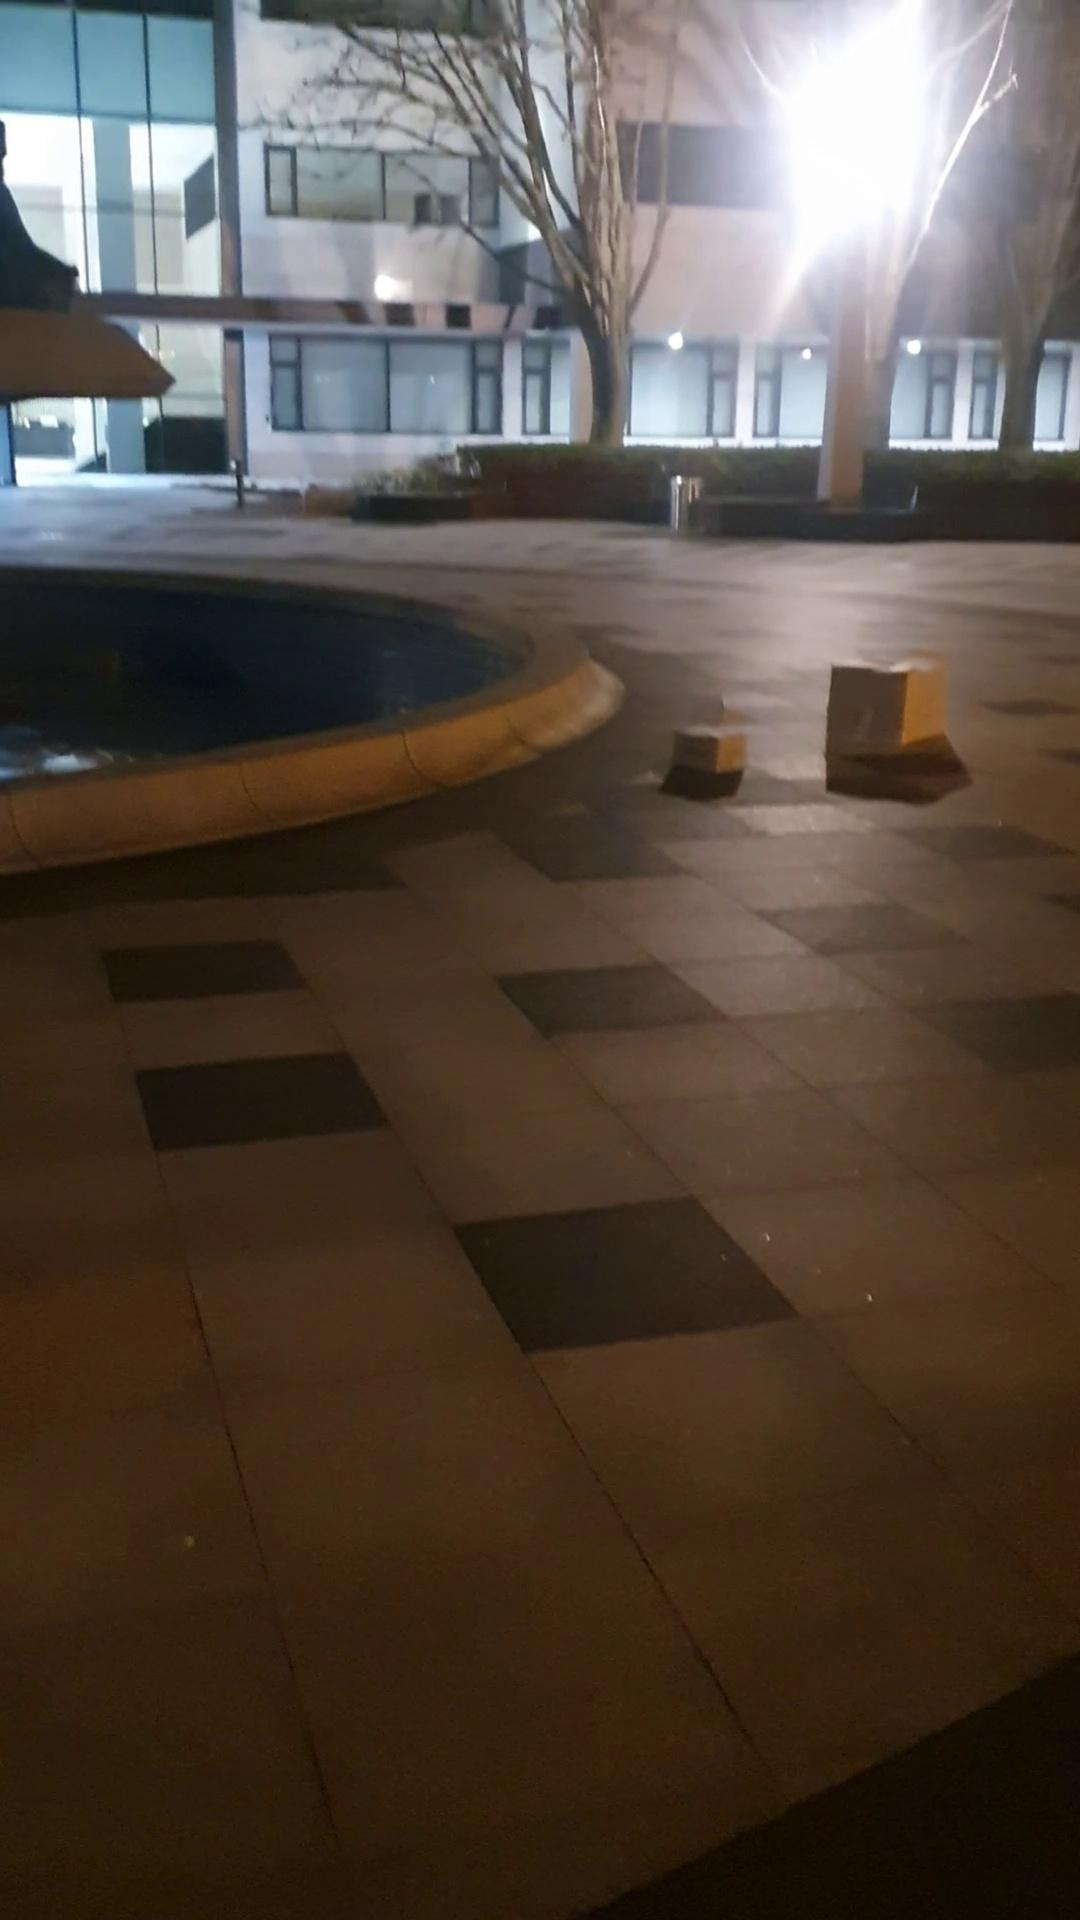Box: (814, 644, 969, 770), (663, 715, 746, 771)
